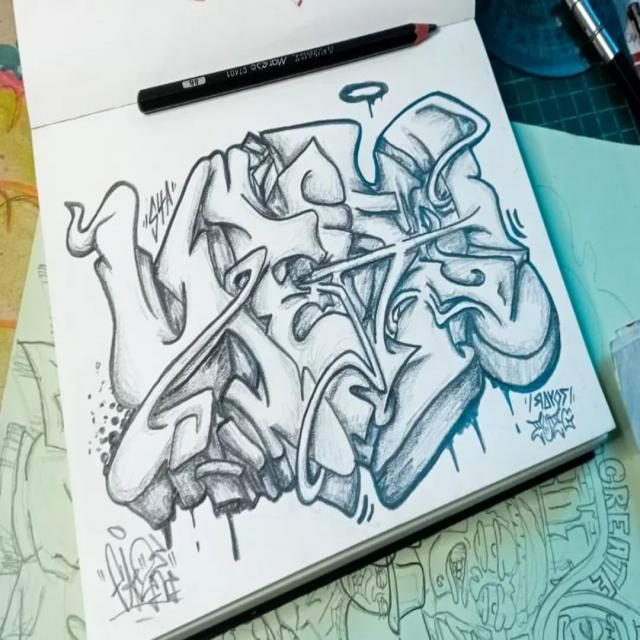nonspitting: (65, 82, 561, 529), (95, 523, 183, 625), (527, 388, 574, 444)
